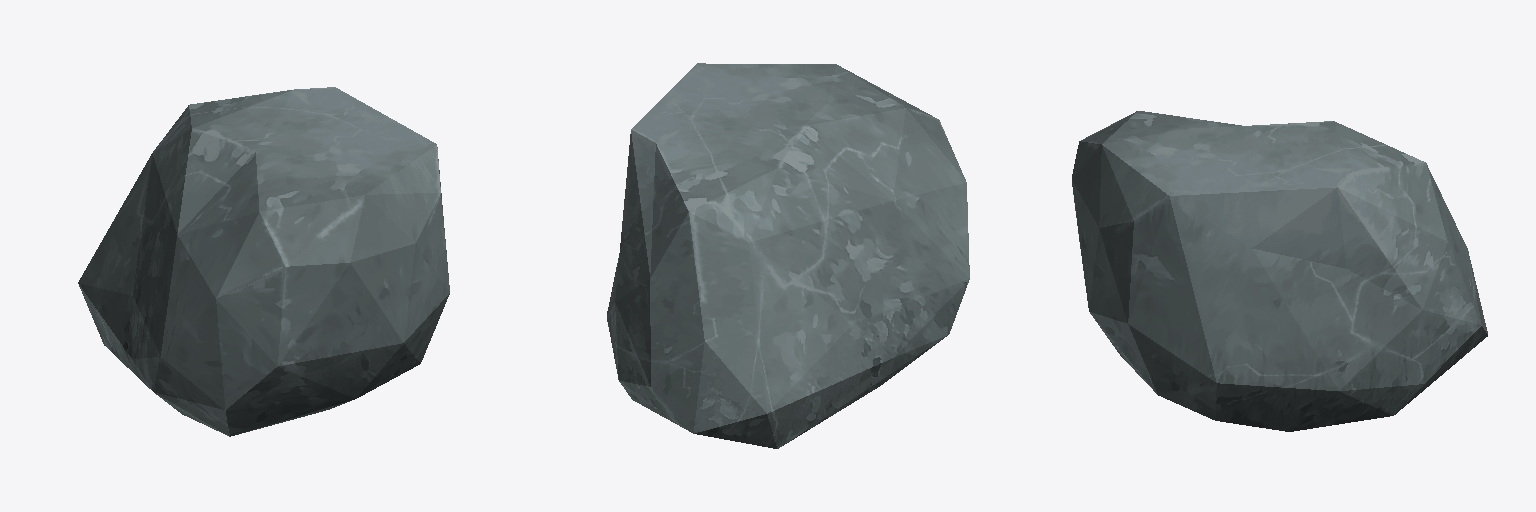
The picture shows the model from 3 angles: view 1: azimuth 30°, elevation 25°; view 2: azimuth 150°, elevation 25°; view 3: azimuth 270°, elevation 25°; orthographic projection.
Parts seen in each view (by area): view 1: rock; view 2: rock; view 3: rock.
Boxes of the visible parts, x1=… form: rock: x1=78, y1=87, x2=449, y2=436; rock: x1=607, y1=63, x2=969, y2=448; rock: x1=1072, y1=111, x2=1487, y2=431.
Bounding box in the file's own units: 14.03 × 10.95 × 17.05.
1 materials, 1 textured.